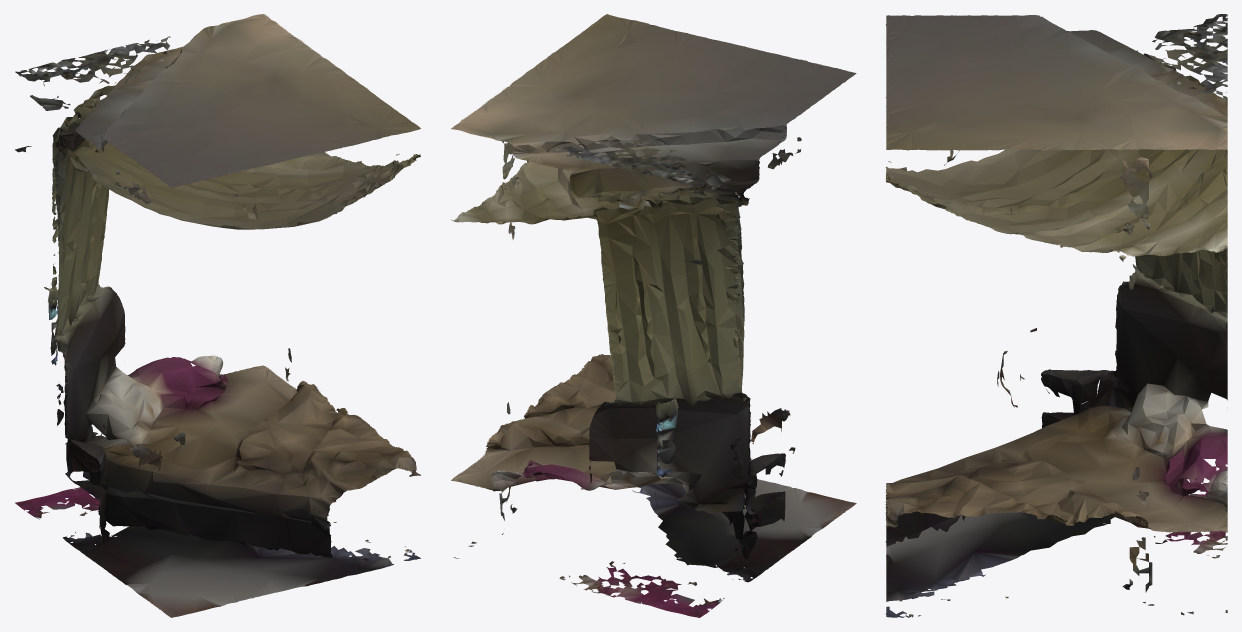
The model's file is coarse.glb.
3 views of the same model, side by side, from view 1: azimuth 30°, elevation 25°; view 2: azimuth 150°, elevation 25°; view 3: azimuth 270°, elevation 25° (orthographic). The views are drawn at different scales.
Size of the model in its own units: 1.75 by 2.88 by 1.89.
